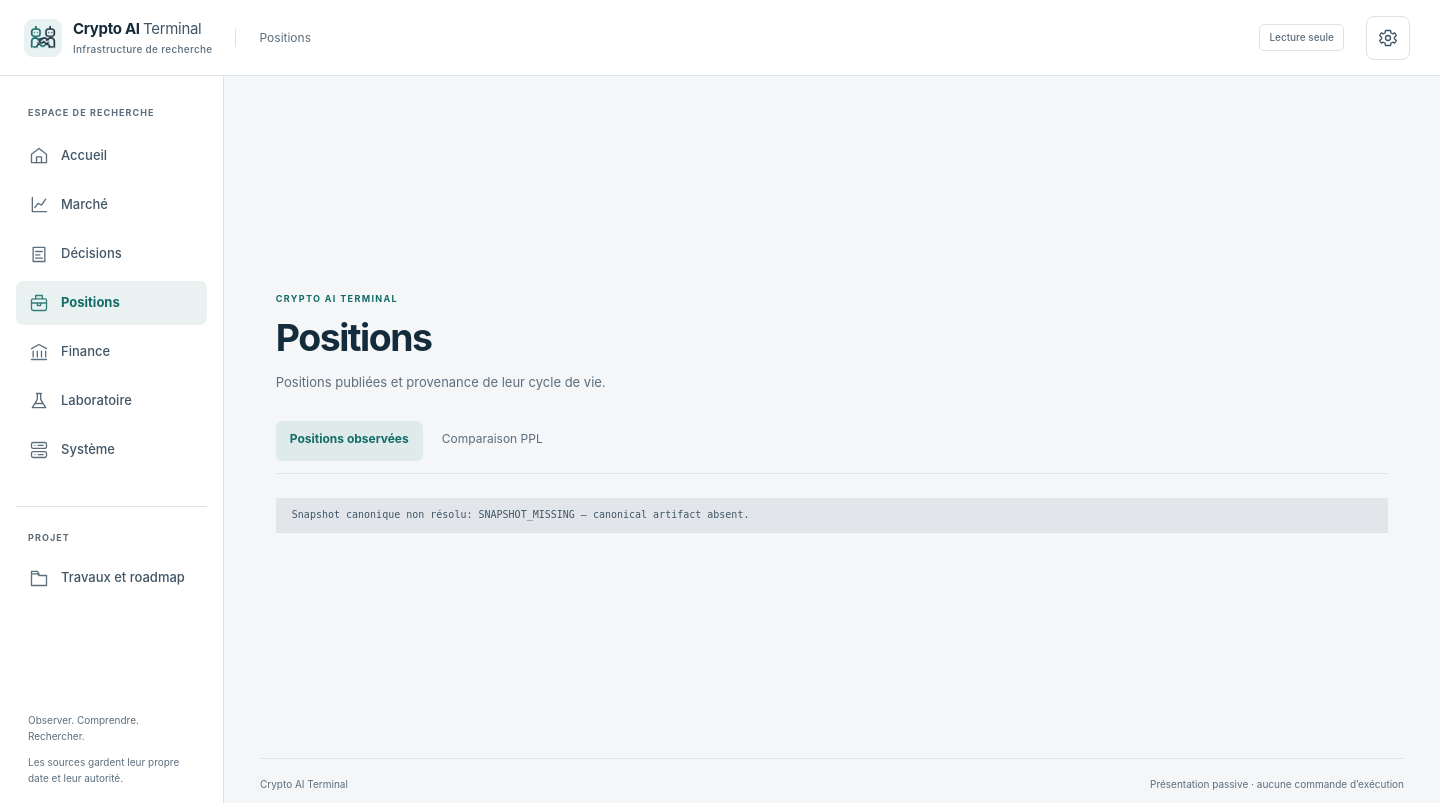
App › keeps MARKET independent of missing Advisor and reports that absence on Positions
The width and height of the screenshot is (1440, 803).
Expected: the text with test id "snapshot-status-api-error" shows "SNAPSHOT_MISSING", x1=478 y1=509 x2=575 y2=520
Click the link with test id "tab-market": (68, 204) x1=29 y1=194 x2=108 y2=214
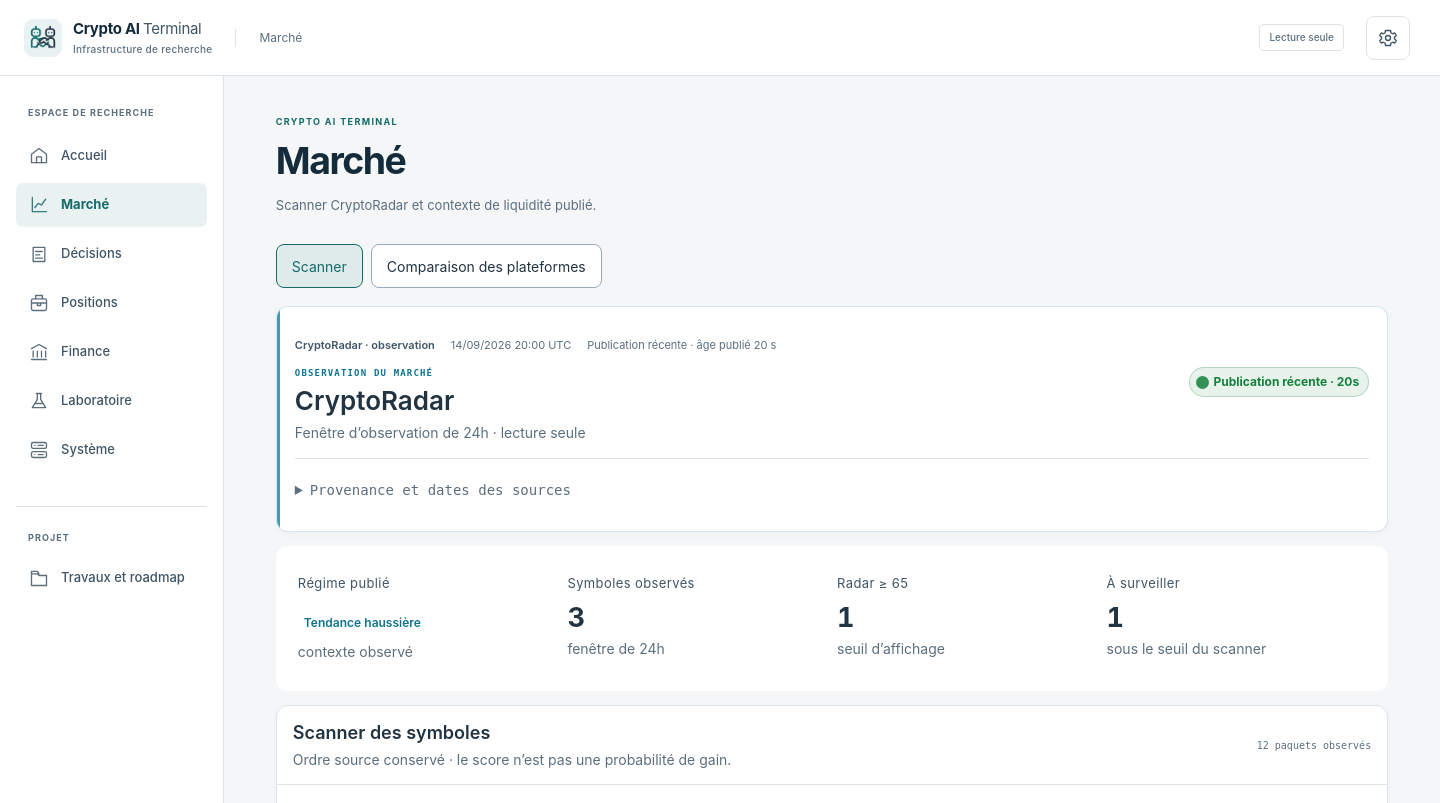
Expected: the element with test id "market-freshness" shows "Publication récente", x1=1214 y1=374 x2=1327 y2=389
Expected: the text with test id "snapshot-status-api-error" is gone
Click the link with test id "tab-paper": (73, 302) x1=29 y1=292 x2=118 y2=312
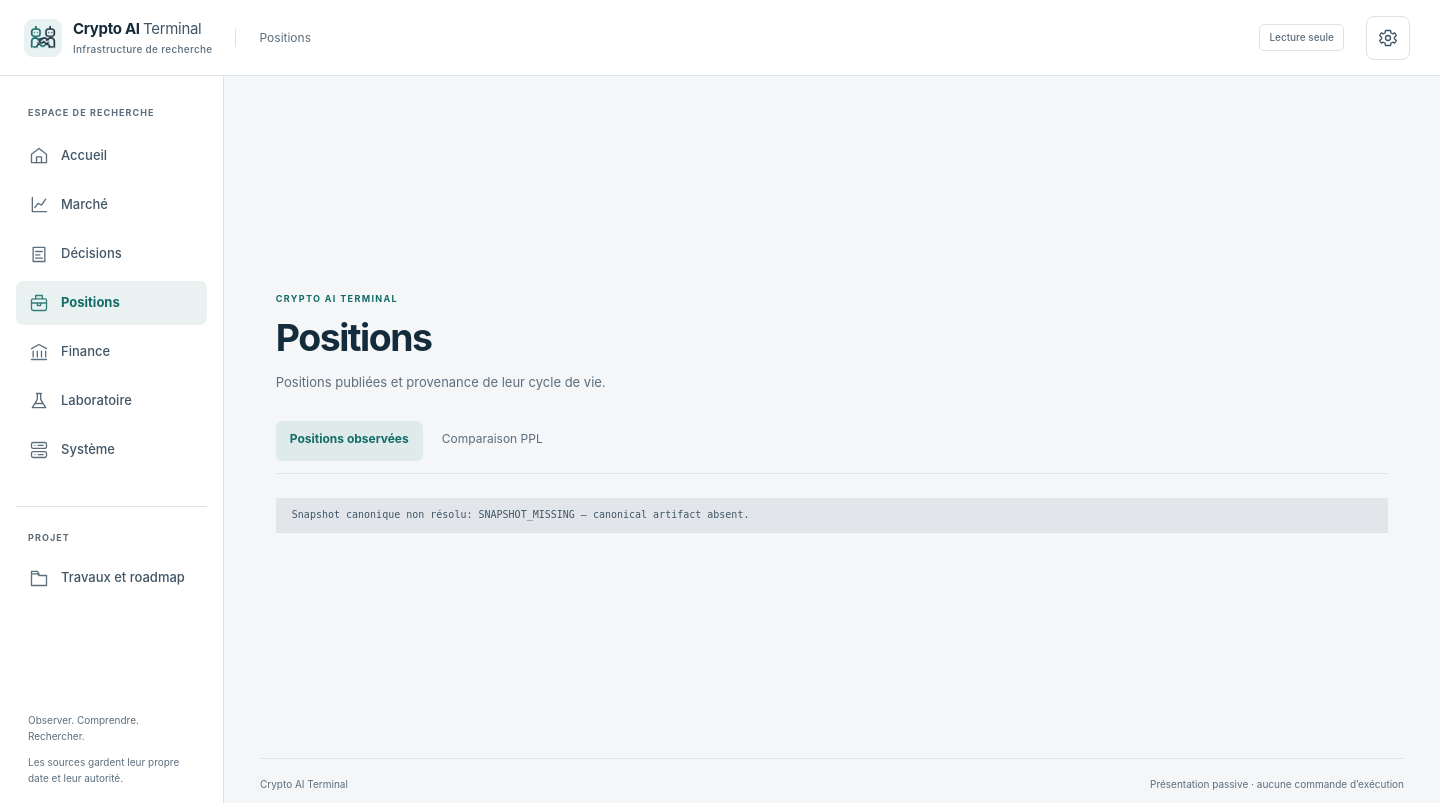
Expected: the element with test id "no-snapshot" shows "non résolu", x1=292 y1=509 x2=466 y2=520
